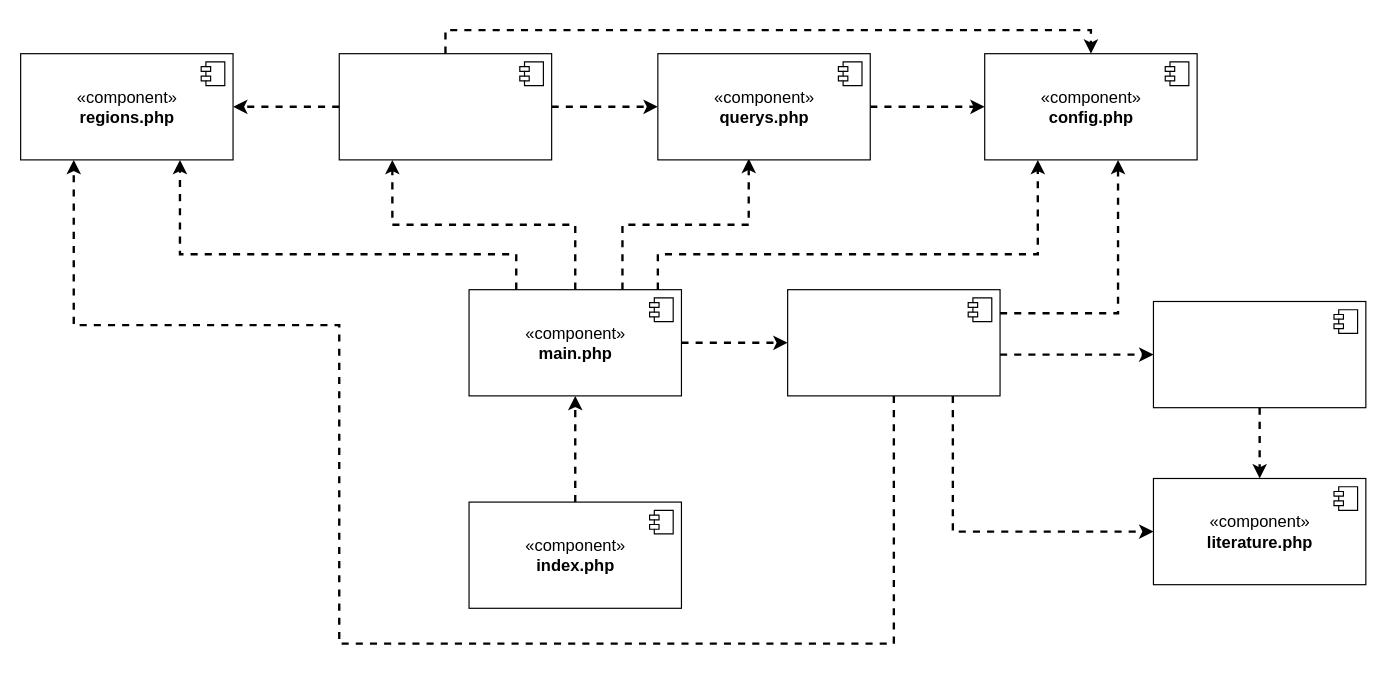
Some shapes in this 1386 by 674 pixel diagram are drawn without their labels. The shapes that lost their labels are listed below. From the top down, each one's box as (x1, y1, x2, y2) in pixels, then its label:
(338, 53, 552, 160): «component» stats.php
(786, 289, 1000, 396): «component» recommends.php
(1152, 300, 1366, 408): «component» article_recommends.php
